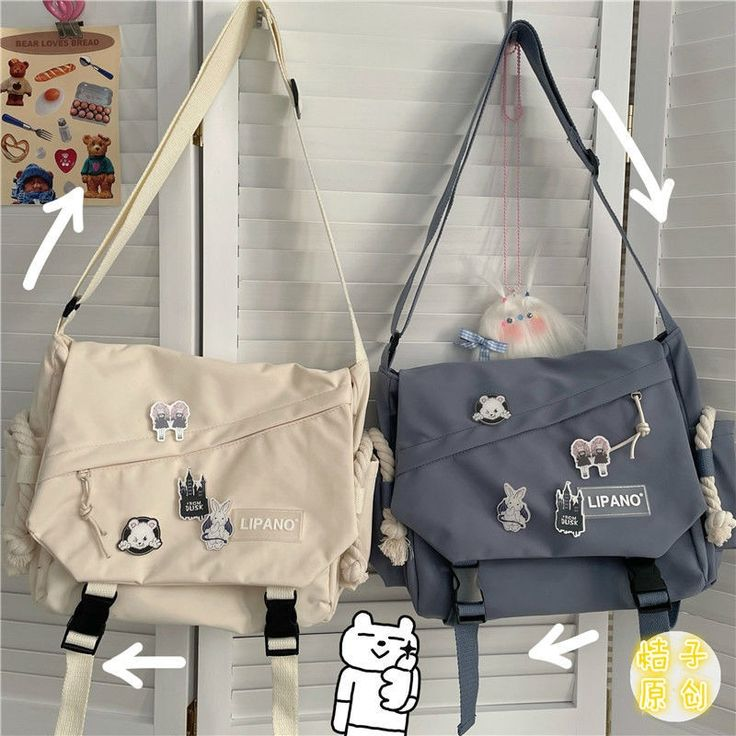nylon: (9, 335, 736, 626)
